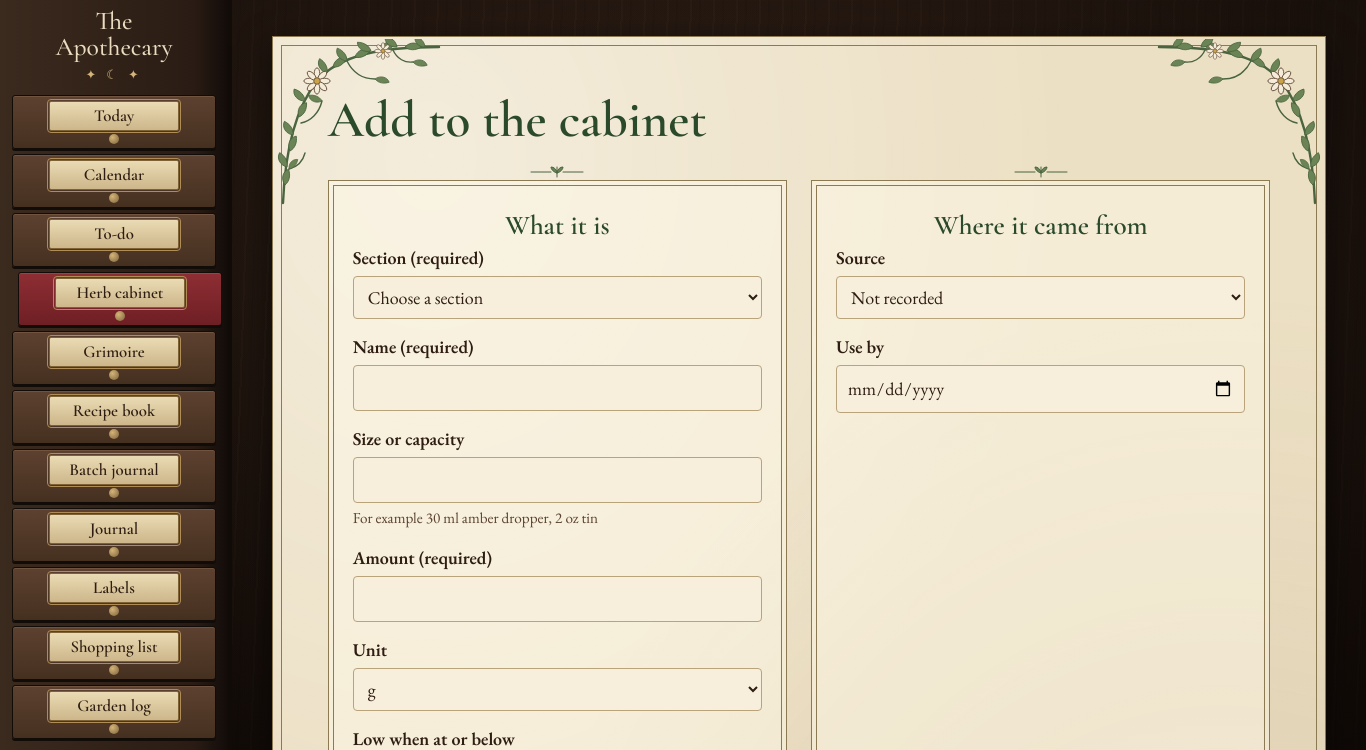
Test: asks before leaving with unsaved changes
Type "Mint" into the field labelled "Name (required)" at (557, 388), box [353,365,762,411]
(page scrolled)
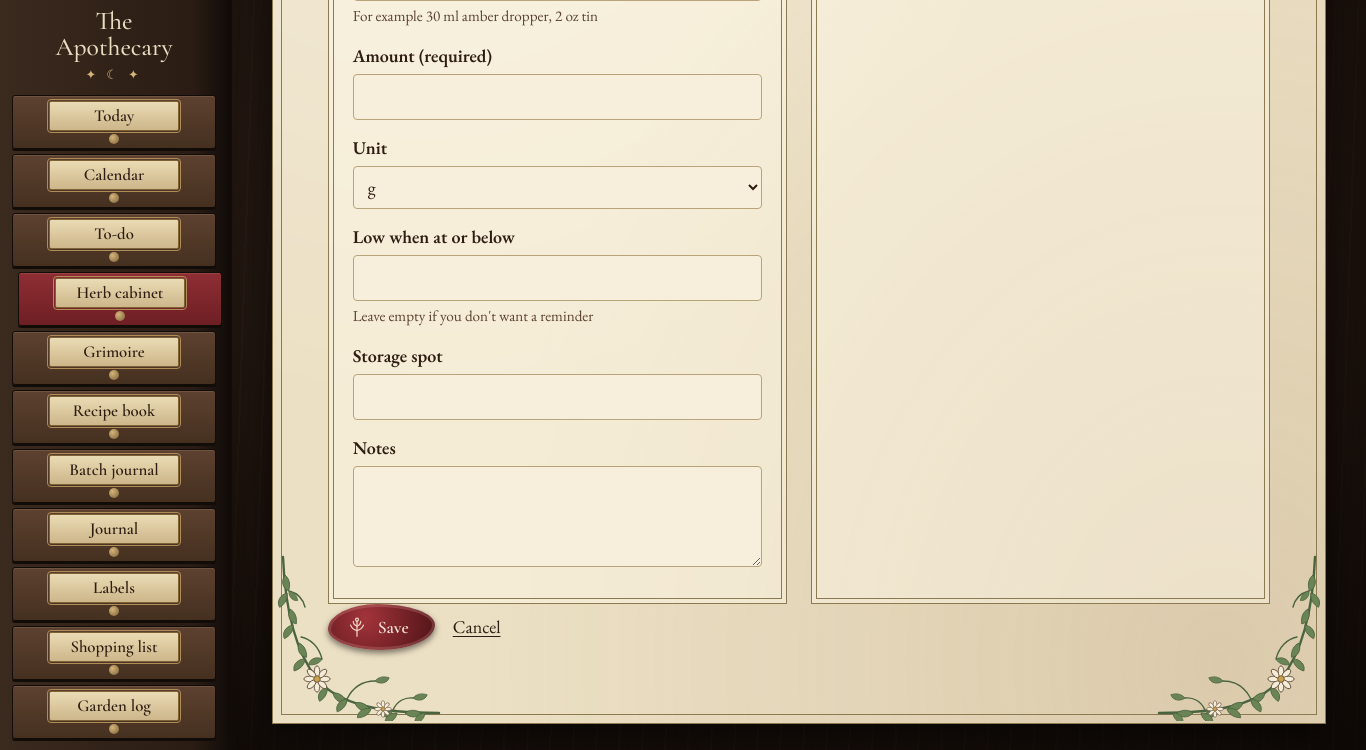
Click the link "Cancel" at (477, 627), box [453,614,500,641]
(page scrolled)
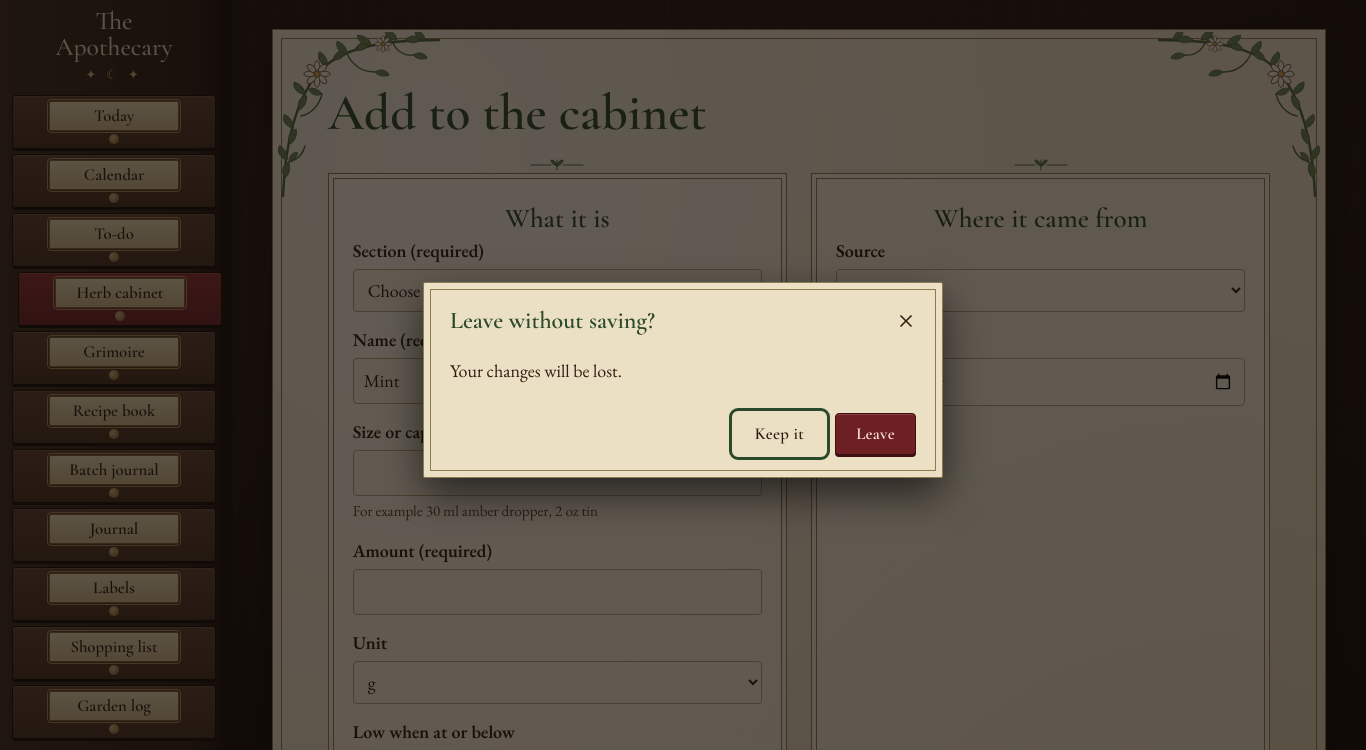
Expected: the heading "Leave without saving?" is shown, [450,308,655,334]
